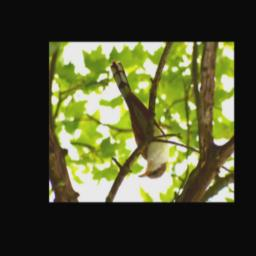Cuckoo: (110, 60, 170, 179)
